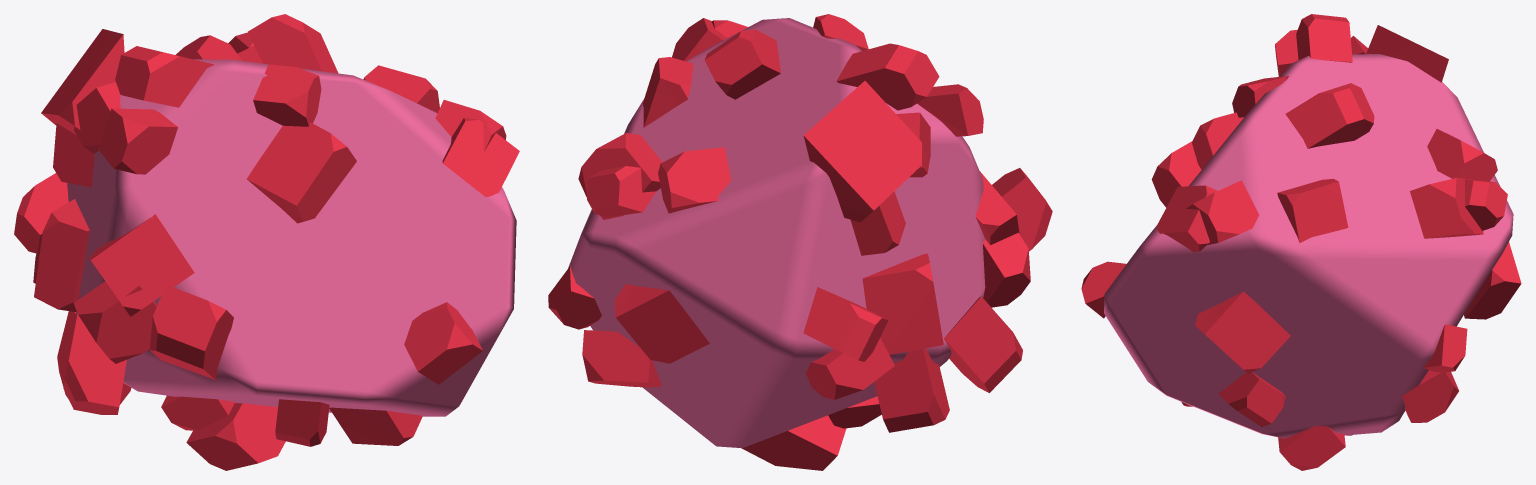
The model's file is obj_voxelmaterialchunk_t3medium.fbx.
The picture shows the model from 3 angles, left to right: view 1: azimuth 30°, elevation 25°; view 2: azimuth 150°, elevation 25°; view 3: azimuth 270°, elevation 25°; orthographic projection. The views are drawn at different scales.
Parts seen in each view (by area): view 1: chunk.003, clutter.003; view 2: chunk.003, clutter.003; view 3: chunk.003, clutter.003.
Part boxes in pixels (x1,y1,x2,y2): chunk.003: [67, 59, 516, 416]; clutter.003: [14, 14, 519, 470]; chunk.003: [568, 18, 985, 448]; clutter.003: [548, 14, 1052, 470]; chunk.003: [1104, 54, 1513, 438]; clutter.003: [1081, 14, 1521, 470].
Bounding box in the file's own units: 8.03 × 8.63 × 9.13.
